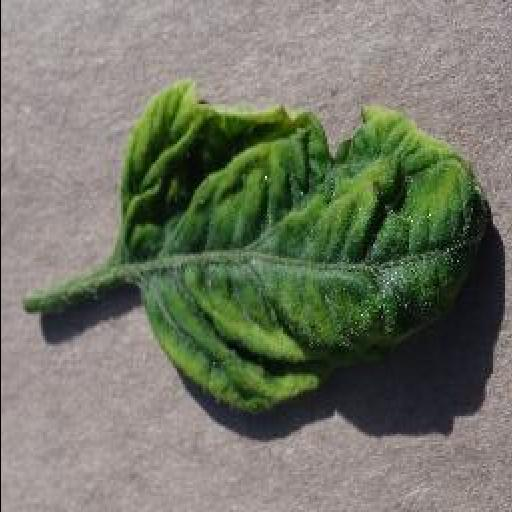disease_tomato: (116, 81, 490, 411)
